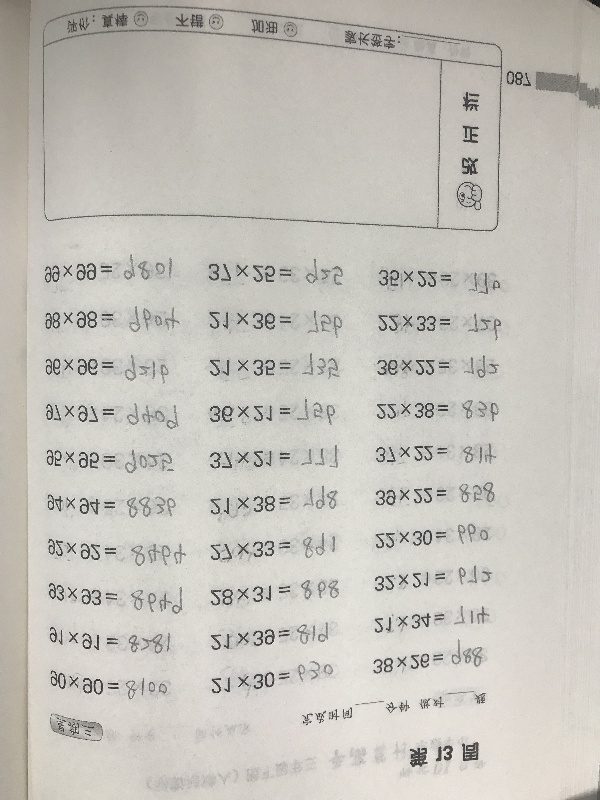equation: (47, 581, 185, 617), (205, 392, 338, 429), (206, 483, 342, 519), (46, 538, 190, 571), (36, 304, 180, 337), (41, 399, 183, 431), (206, 349, 342, 382), (205, 260, 349, 291), (40, 252, 175, 285), (41, 350, 173, 383), (42, 446, 177, 478), (205, 309, 344, 340), (368, 638, 487, 674), (207, 535, 339, 567), (206, 442, 341, 472), (372, 265, 502, 296), (375, 311, 503, 342), (43, 492, 179, 521), (207, 579, 342, 607), (45, 672, 171, 702), (372, 439, 501, 468), (45, 627, 174, 656), (371, 480, 498, 508), (207, 665, 337, 692), (207, 623, 332, 651), (371, 522, 491, 550), (373, 397, 501, 423), (370, 606, 492, 633), (373, 355, 499, 380), (371, 566, 496, 591)
